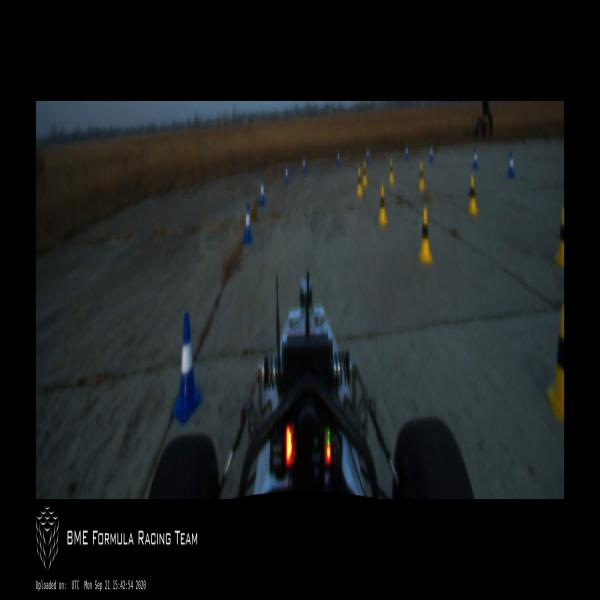blue_cone: (172, 312, 203, 424), (243, 203, 253, 244), (508, 150, 516, 179), (259, 179, 265, 206), (284, 164, 290, 184), (473, 148, 479, 168), (404, 144, 410, 162), (302, 156, 306, 173), (366, 147, 370, 163), (430, 144, 433, 163), (337, 150, 340, 166)
yellow_cone: (545, 303, 564, 421), (418, 207, 433, 262), (554, 208, 564, 270), (468, 176, 478, 215), (379, 186, 387, 224), (418, 163, 425, 192), (357, 167, 362, 196), (362, 160, 367, 186), (389, 157, 394, 183)
